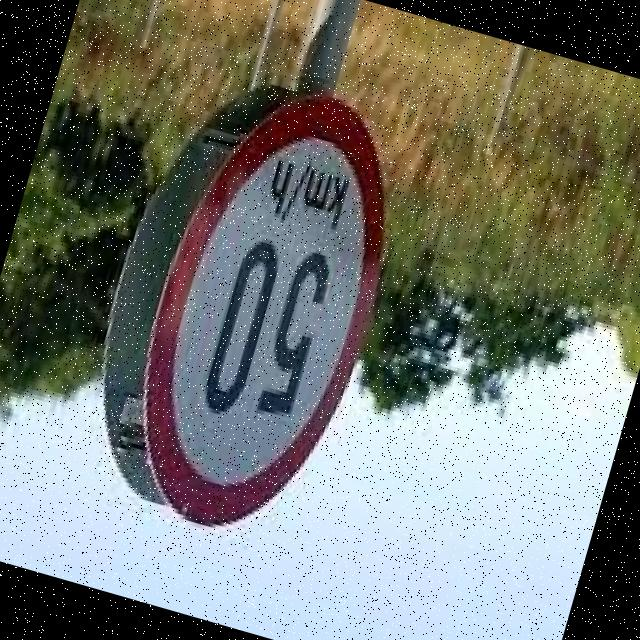speed_limit_50: (100, 62, 431, 556)
